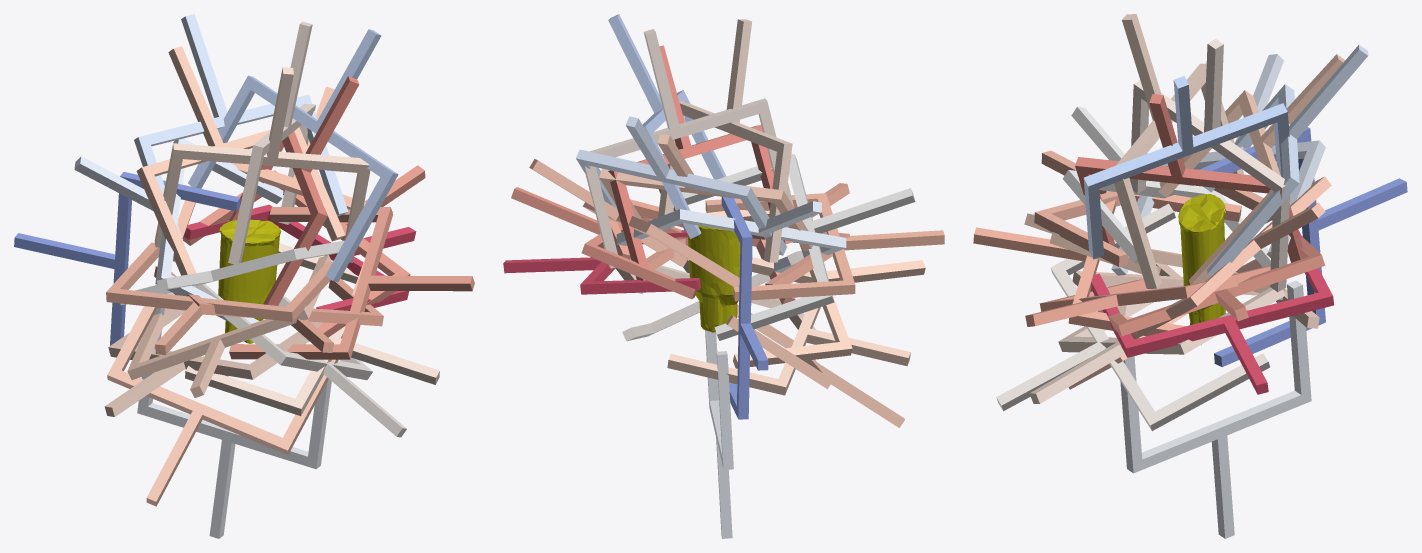
The model's file is kit_obj_25_da_5.glb.
The picture shows the model from 3 angles, left to right: view 1: azimuth 30°, elevation 25°; view 2: azimuth 150°, elevation 25°; view 3: azimuth 270°, elevation 25°; orthographic projection. The views are drawn at different scales.
Visible parts, largest first — view 1: kit_obj_25_da_5.obj_grasp_1, kit_obj_25_da_5.obj_grasp_13, kit_obj_25_da_5.obj_grasp_17, kit_obj_25_da_5.obj_grasp_9, kit_obj_25_da_5.obj_grasp_15, kit_obj_25_da_5.obj_grasp_12, kit_obj_25_da_5.obj_grasp_4, kit_obj_25_da_5.obj_grasp_2, kit_obj_25_da_5.obj_grasp_0, kit_obj_25_da_5.obj_grasp_11, kit_obj_25_da_5.obj_grasp_8, kit_obj_25_da_5.obj_grasp_19 (+10 smaller); view 2: kit_obj_25_da_5.obj_grasp_5, kit_obj_25_da_5.obj_grasp_7, kit_obj_25_da_5.obj_grasp_15, kit_obj_25_da_5.obj_grasp_2, kit_obj_25_da_5.obj_grasp_9, kit_obj_25_da_5.obj_grasp_10, kit_obj_25_da_5.obj_grasp_3, kit_obj_25_da_5.obj, kit_obj_25_da_5.obj_grasp_0, kit_obj_25_da_5.obj_grasp_19, kit_obj_25_da_5.obj_grasp_11, kit_obj_25_da_5.obj_grasp_4 (+10 smaller); view 3: kit_obj_25_da_5.obj_grasp_4, kit_obj_25_da_5.obj_grasp_1, kit_obj_25_da_5.obj_grasp_6, kit_obj_25_da_5.obj_grasp_20, kit_obj_25_da_5.obj_grasp_7, kit_obj_25_da_5.obj_grasp_9, kit_obj_25_da_5.obj_grasp_2, kit_obj_25_da_5.obj_grasp_19, kit_obj_25_da_5.obj_grasp_0, kit_obj_25_da_5.obj_grasp_16, kit_obj_25_da_5.obj_grasp_12, kit_obj_25_da_5.obj_grasp_8 (+10 smaller).
Part boxes in pixels (box(x1,y1,x2,y2)): kit_obj_25_da_5.obj_grasp_1: box(188, 29, 398, 282); kit_obj_25_da_5.obj_grasp_13: box(107, 284, 338, 506); kit_obj_25_da_5.obj_grasp_17: box(229, 207, 474, 359); kit_obj_25_da_5.obj_grasp_9: box(154, 67, 370, 262); kit_obj_25_da_5.obj_grasp_15: box(106, 242, 332, 355); kit_obj_25_da_5.obj_grasp_12: box(136, 46, 345, 275); kit_obj_25_da_5.obj_grasp_4: box(137, 307, 331, 538); kit_obj_25_da_5.obj_grasp_2: box(134, 14, 348, 243); kit_obj_25_da_5.obj_grasp_0: box(14, 172, 240, 376); kit_obj_25_da_5.obj_grasp_11: box(127, 255, 331, 397); kit_obj_25_da_5.obj_grasp_8: box(185, 243, 439, 415); kit_obj_25_da_5.obj_grasp_19: box(229, 76, 359, 305); kit_obj_25_da_5.obj_grasp_5: box(681, 154, 915, 340); kit_obj_25_da_5.obj_grasp_7: box(585, 29, 793, 268); kit_obj_25_da_5.obj_grasp_15: box(705, 193, 944, 301); kit_obj_25_da_5.obj_grasp_2: box(576, 116, 786, 255); kit_obj_25_da_5.obj_grasp_9: box(658, 19, 792, 262); kit_obj_25_da_5.obj_grasp_10: box(667, 257, 910, 395); kit_obj_25_da_5.obj_grasp_3: box(616, 201, 846, 272); kit_obj_25_da_5.obj: box(687, 225, 740, 332); kit_obj_25_da_5.obj_grasp_0: box(721, 196, 768, 419); kit_obj_25_da_5.obj_grasp_19: box(608, 45, 792, 280); kit_obj_25_da_5.obj_grasp_11: box(682, 210, 925, 368); kit_obj_25_da_5.obj_grasp_4: box(705, 330, 733, 538); kit_obj_25_da_5.obj_grasp_4: box(1120, 280, 1311, 538); kit_obj_25_da_5.obj_grasp_1: box(1083, 76, 1289, 259); kit_obj_25_da_5.obj_grasp_6: box(996, 203, 1269, 430); kit_obj_25_da_5.obj_grasp_20: box(1091, 229, 1334, 394); kit_obj_25_da_5.obj_grasp_7: box(1130, 39, 1289, 291); kit_obj_25_da_5.obj_grasp_9: box(1114, 14, 1244, 288); kit_obj_25_da_5.obj_grasp_2: box(1203, 45, 1368, 276); kit_obj_25_da_5.obj_grasp_19: box(1075, 94, 1302, 262); kit_obj_25_da_5.obj_grasp_0: box(1199, 127, 1407, 366); kit_obj_25_da_5.obj_grasp_16: box(973, 191, 1241, 345); kit_obj_25_da_5.obj_grasp_12: box(1158, 54, 1345, 284); kit_obj_25_da_5.obj_grasp_8: box(1029, 287, 1285, 403).
Size of the model in its own units: 0.2347 by 0.3069 by 0.2245.
